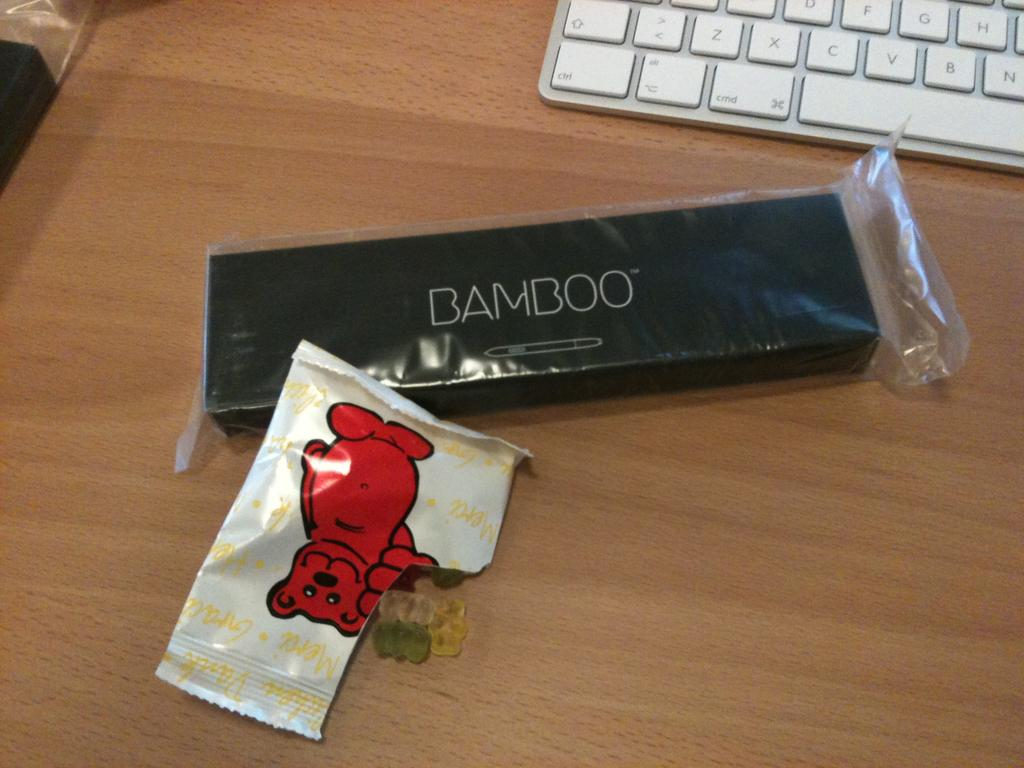Computer-keyboard: (532, 0, 1023, 175)
